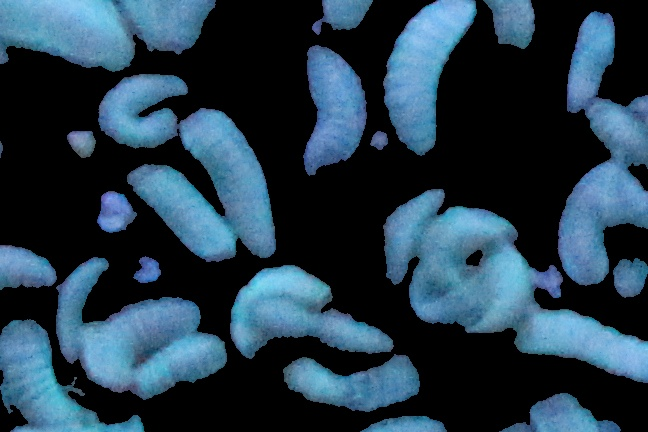larvae: (177, 107, 276, 257), (383, 1, 478, 156), (78, 301, 203, 391), (1, 321, 101, 432), (558, 163, 648, 283), (128, 168, 237, 263), (518, 305, 647, 385), (1, 1, 135, 76), (298, 45, 368, 177), (229, 268, 331, 353), (280, 354, 420, 411), (259, 301, 396, 355), (374, 187, 446, 283), (96, 74, 189, 148), (464, 249, 534, 334), (128, 334, 223, 396), (55, 256, 109, 365), (417, 208, 513, 267), (565, 7, 616, 115), (588, 91, 648, 167), (407, 268, 478, 325), (479, 1, 545, 55), (1, 245, 55, 292)
